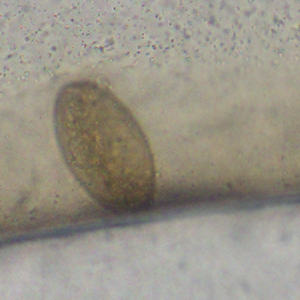Fasciola_hepatica_egg: (51, 78, 158, 216)
